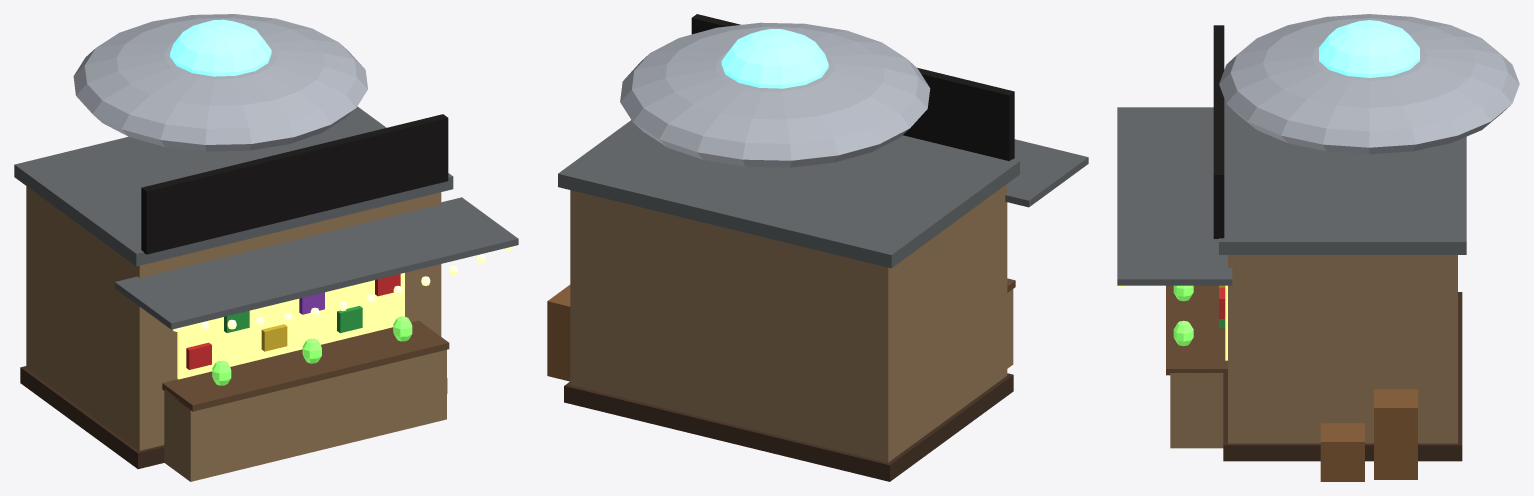
Rendered from ufo_kiosk.glb.
The picture shows the model from 3 angles, left to right: view 1: azimuth 30°, elevation 25°; view 2: azimuth 150°, elevation 25°; view 3: azimuth 270°, elevation 25°; orthographic projection. The views are drawn at different scales.
Parts seen in each view (by area): view 1: ufo_kiosk; view 2: ufo_kiosk; view 3: ufo_kiosk.
Part boxes in pixels (<box>): ufo_kiosk: <box>14,14,518,481</box>; ufo_kiosk: <box>547,14,1088,481</box>; ufo_kiosk: <box>1117,14,1519,481</box>.
Bounding box in the file's own units: 4.9 × 4.47 × 4.55.
